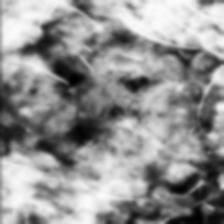Potentially Malignant Skin Tumors: (112, 69, 156, 94), (60, 64, 92, 90)
